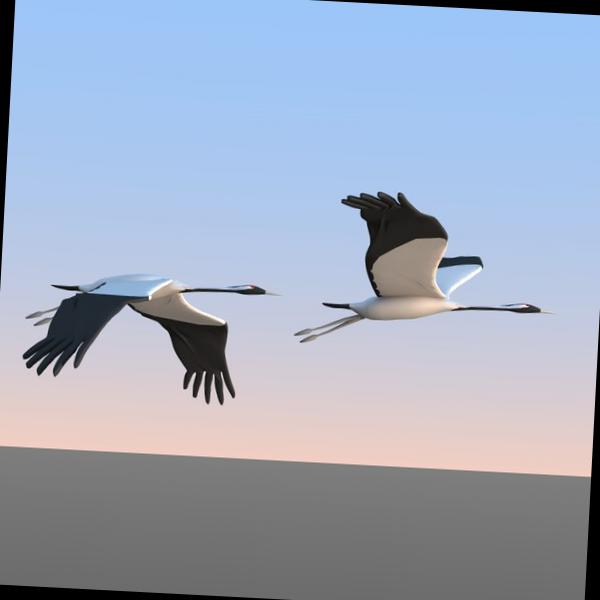bird: (284, 174, 570, 378), (8, 258, 282, 431)
